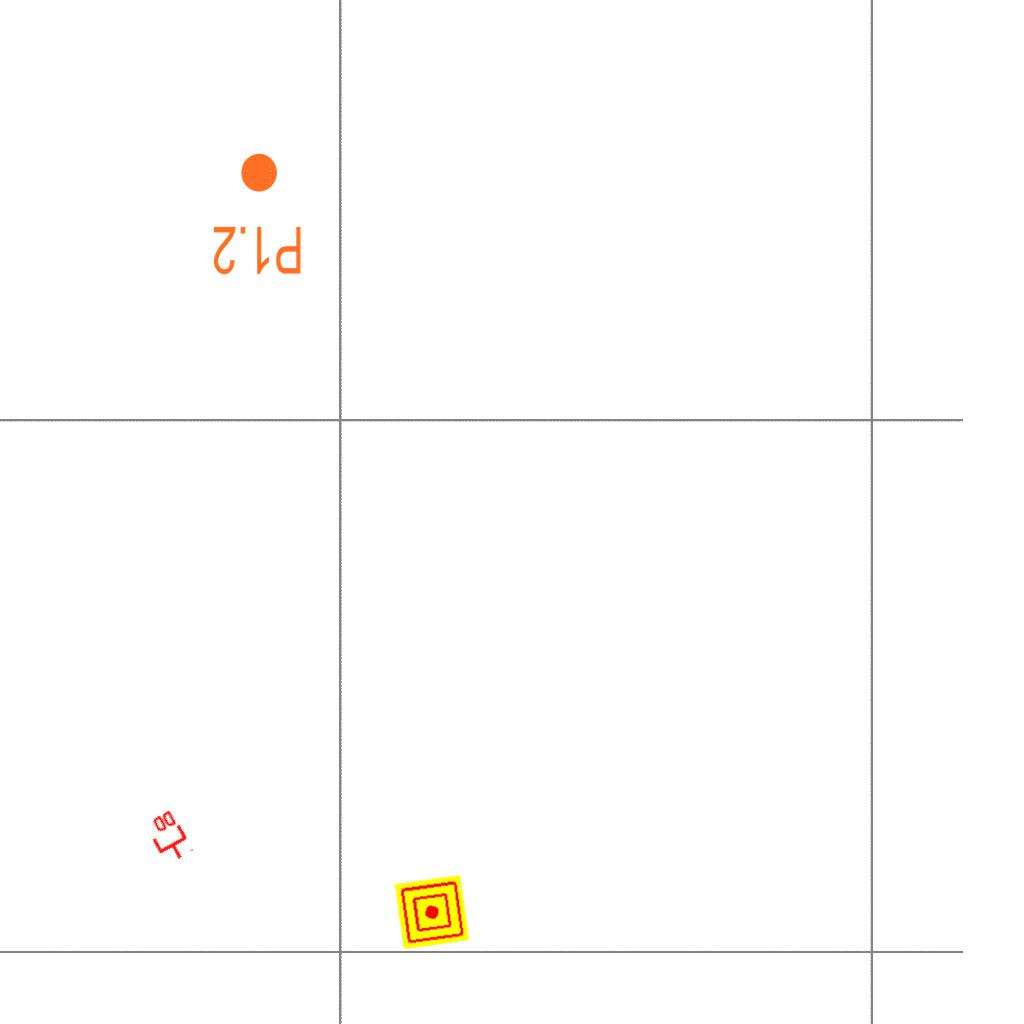Datenanschluss_zweifach: (140, 806, 196, 869)
Downlight_LED_Einbauleuchten_Flur: (211, 150, 304, 278)
NAM-Nichtautomatischer_Melder: (394, 874, 470, 950)
